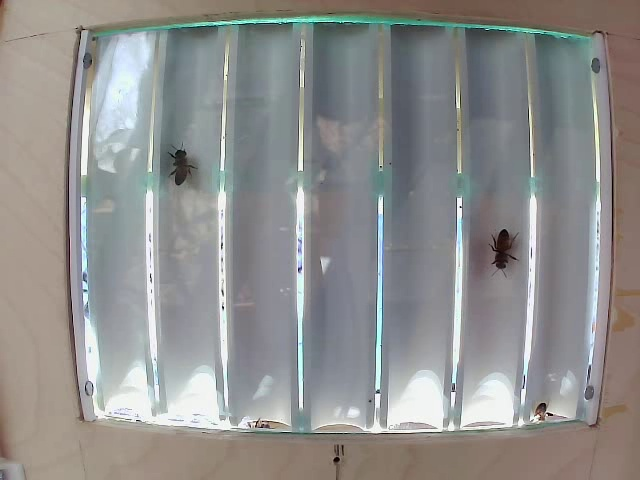bee: (156, 150, 201, 198), (490, 230, 536, 276)
